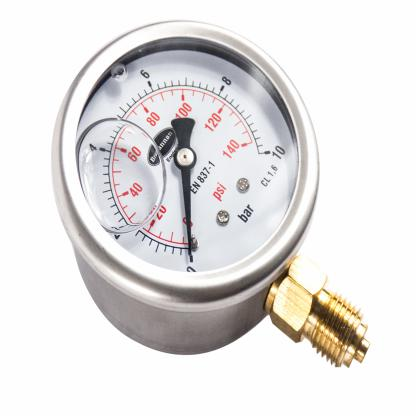needle: (181, 168, 192, 257)
